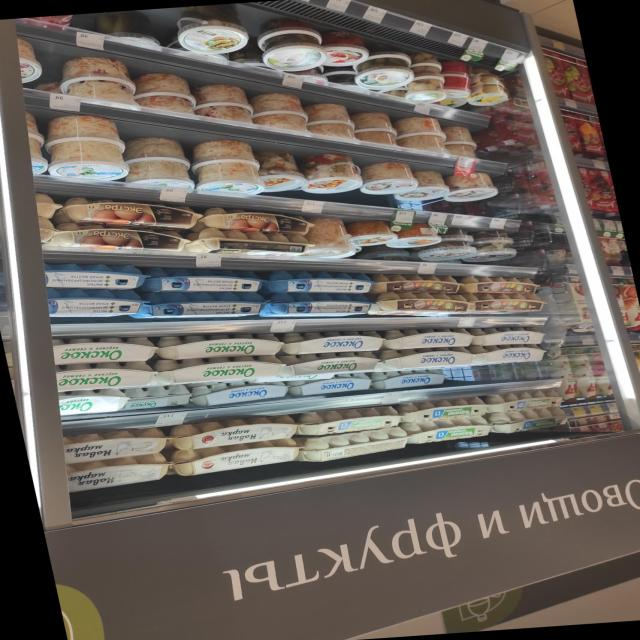organic waste: (172, 439, 303, 478), (125, 288, 265, 324), (165, 3, 258, 57), (168, 415, 300, 450), (61, 454, 176, 494), (153, 329, 286, 362), (150, 354, 288, 385), (252, 265, 375, 299), (40, 258, 152, 294), (55, 54, 139, 102), (140, 267, 268, 298), (61, 428, 173, 463), (259, 288, 372, 322), (49, 333, 160, 367), (47, 140, 129, 184), (44, 288, 149, 322), (295, 405, 403, 438), (50, 360, 158, 392), (281, 327, 387, 358), (293, 152, 367, 196), (190, 160, 268, 200), (369, 290, 471, 320), (252, 35, 330, 74), (344, 54, 422, 93), (191, 380, 293, 408), (276, 350, 380, 377), (131, 71, 196, 114), (367, 270, 462, 299), (121, 157, 195, 194), (382, 325, 479, 353), (374, 346, 474, 373), (192, 82, 254, 125), (250, 91, 308, 134), (404, 416, 492, 444), (298, 217, 355, 260), (398, 396, 488, 423), (247, 150, 303, 193), (466, 290, 551, 318), (489, 407, 573, 435), (117, 135, 190, 165), (286, 372, 373, 397), (185, 137, 258, 166), (395, 117, 449, 155), (304, 102, 358, 140), (483, 389, 568, 413), (469, 342, 547, 368), (120, 384, 195, 411), (351, 110, 405, 147), (319, 30, 371, 68), (461, 273, 542, 297), (468, 324, 548, 348), (360, 162, 417, 195), (56, 389, 120, 416), (369, 368, 447, 390), (395, 172, 452, 201), (440, 125, 484, 162), (443, 173, 499, 202), (344, 222, 398, 248), (416, 240, 476, 262), (390, 224, 443, 248), (468, 242, 520, 264)
